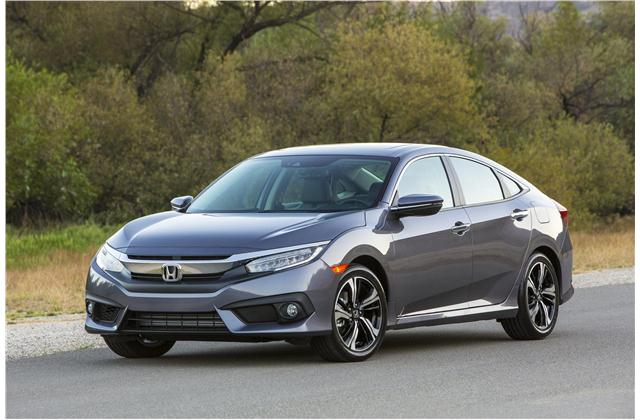car: (78, 133, 583, 365)
